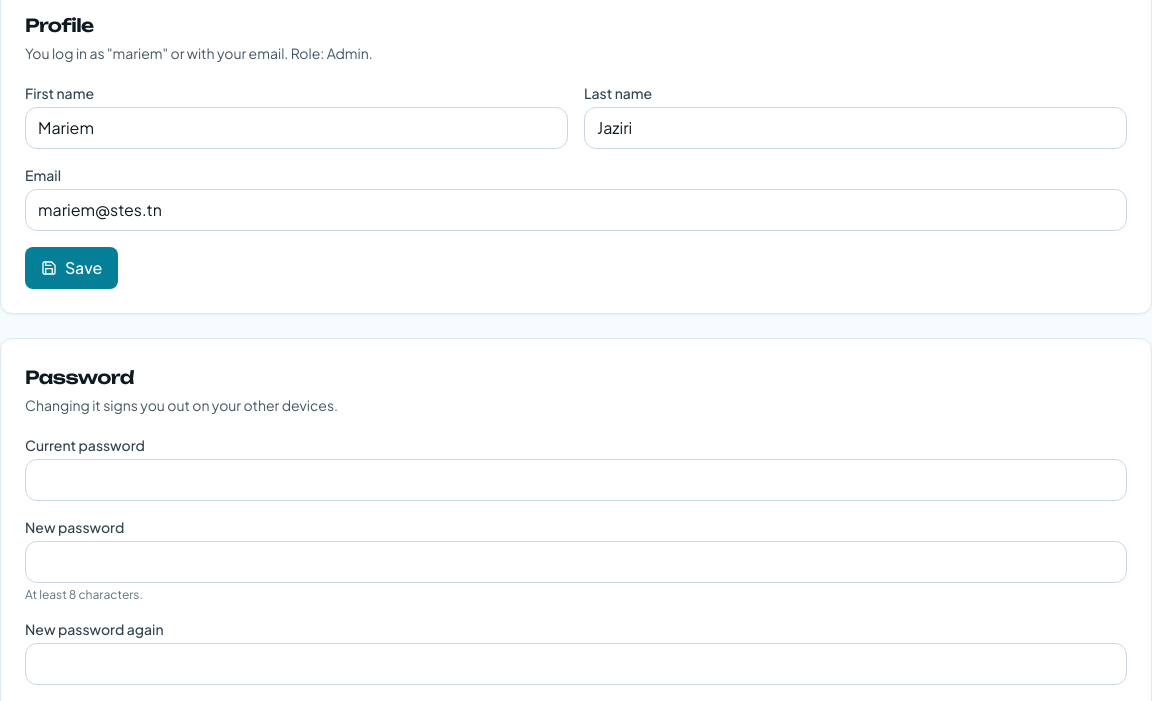
Test: admin settings › changes the password and keeps the new session
The width and height of the screenshot is (1152, 701).
Type "ancien-mdp" into the password field labelled "Current password".
click(576, 480); type("ancien-mdp")  # box [25, 459, 1127, 501]
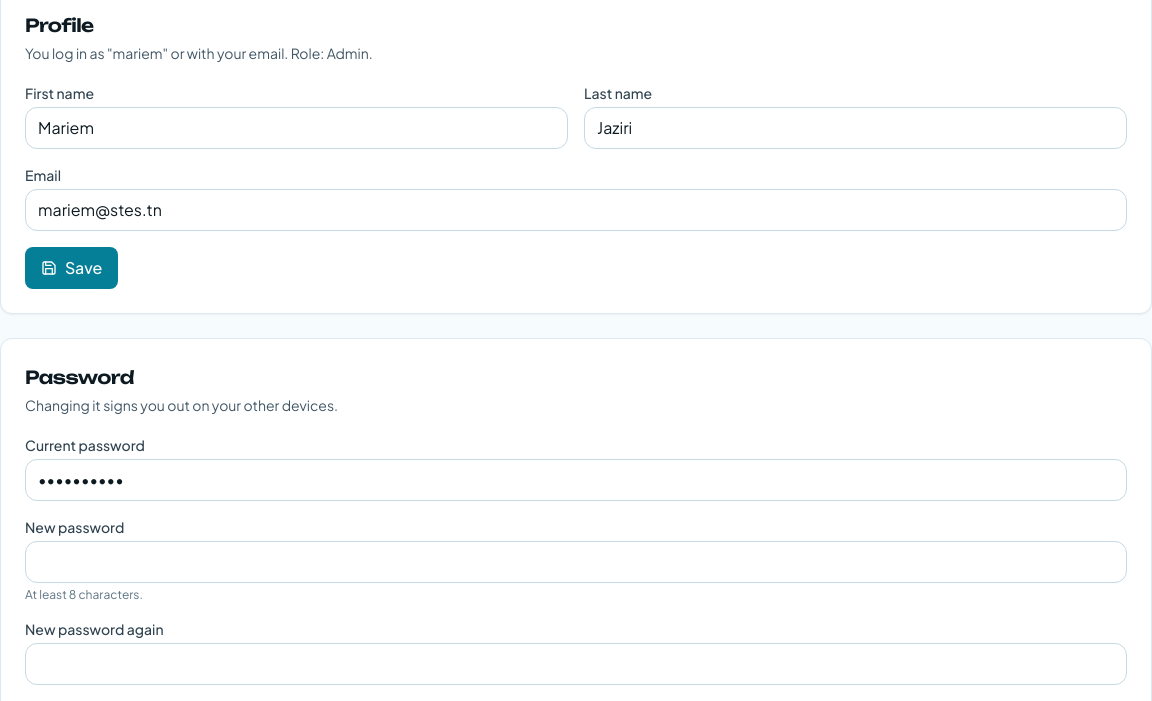
Type "nouveau-mdp-2" into the password field labelled "New password".
click(576, 562); type("nouveau-mdp-2")  # box [25, 541, 1127, 583]
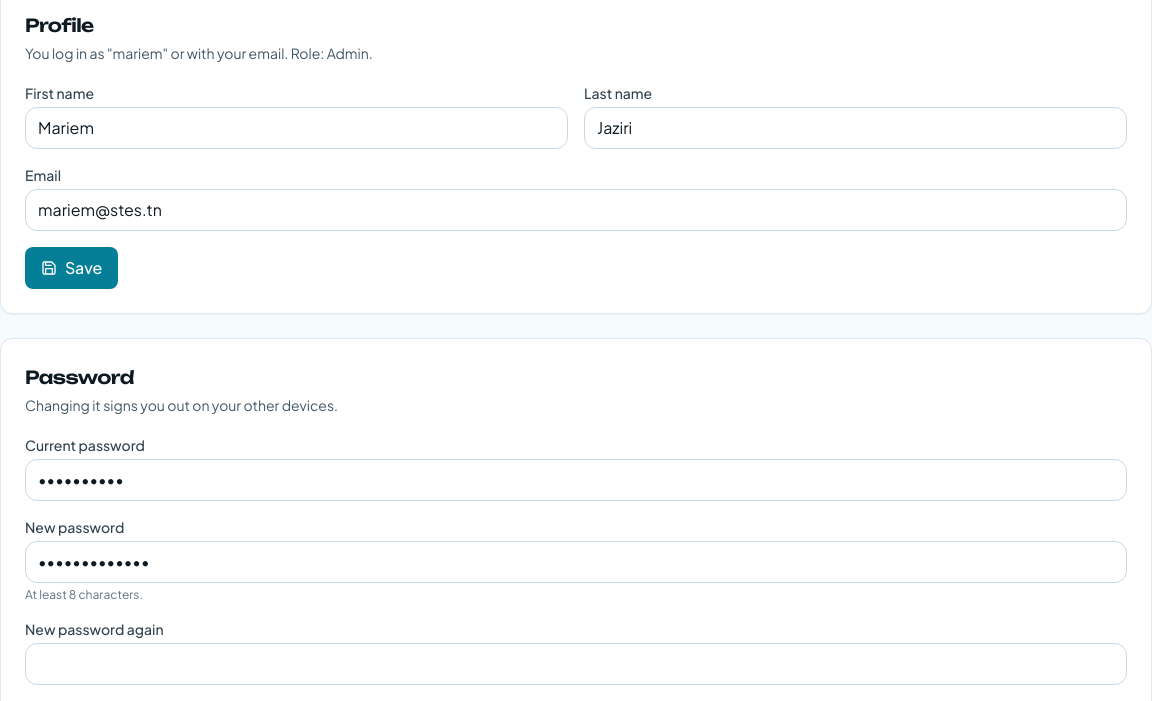
Type "nouveau-mdp-2" into the password field labelled "New password again".
click(576, 664); type("nouveau-mdp-2")  # box [25, 643, 1127, 685]
(page scrolled)
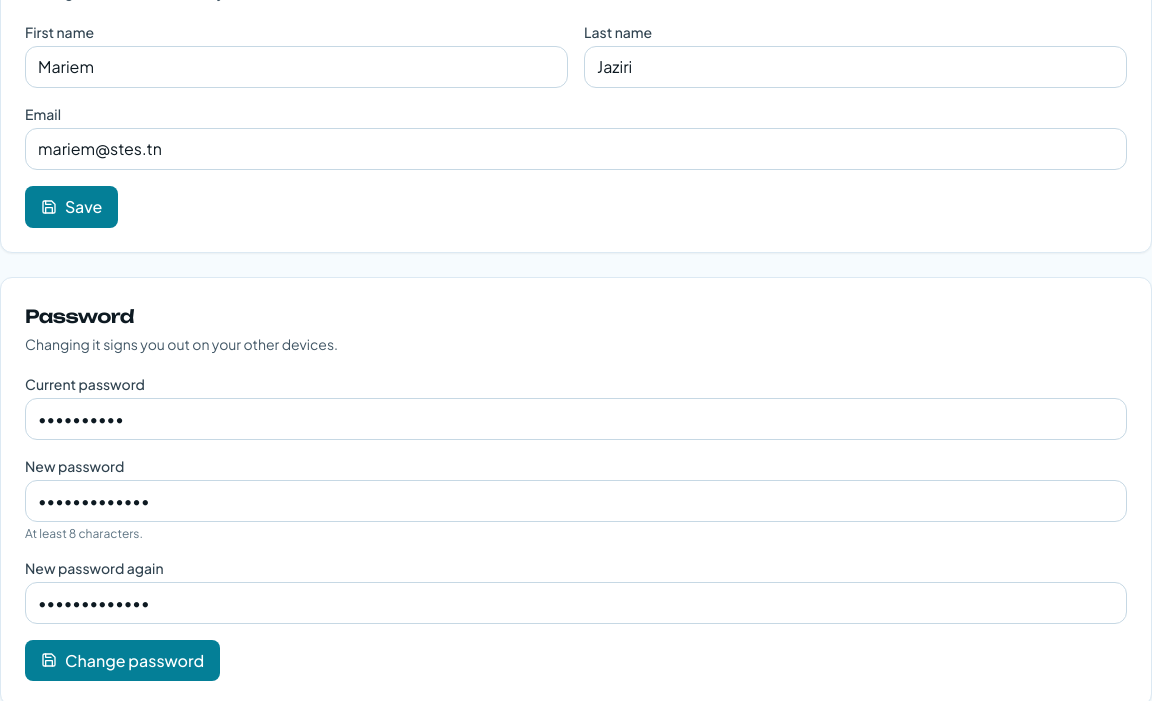
Click the button "Change password".
click(123, 660)  # box [25, 640, 220, 681]
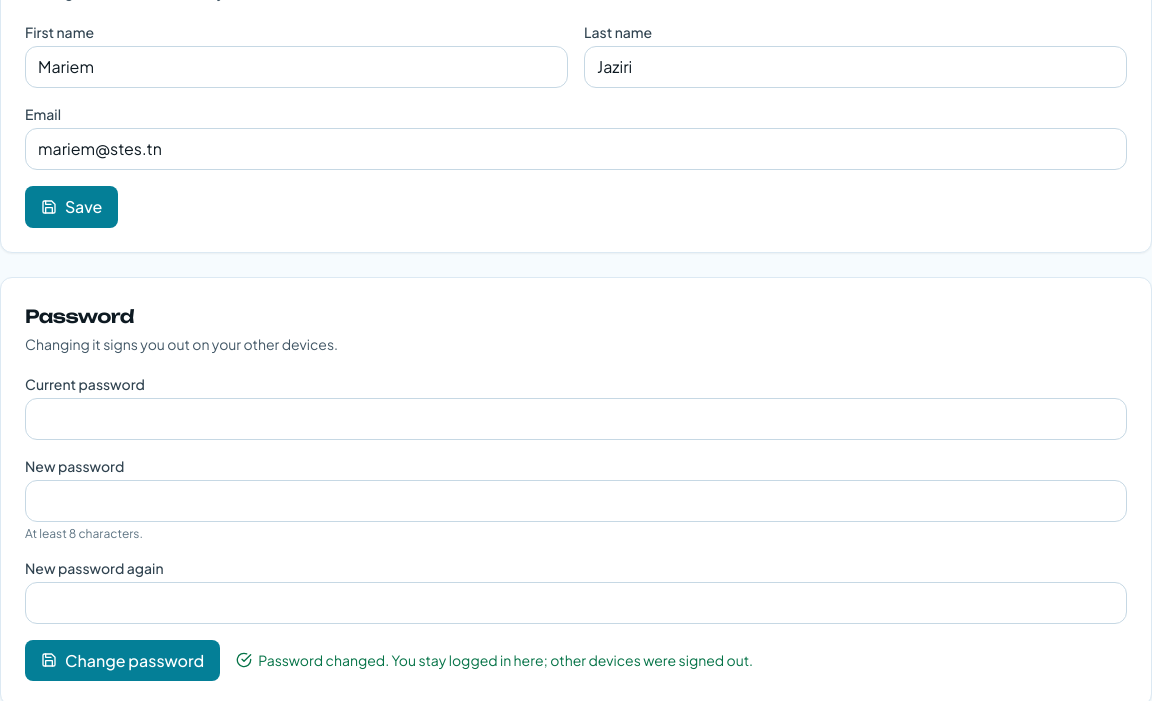
Check: the message shows "other devices were signed out", box [258, 651, 753, 669]
